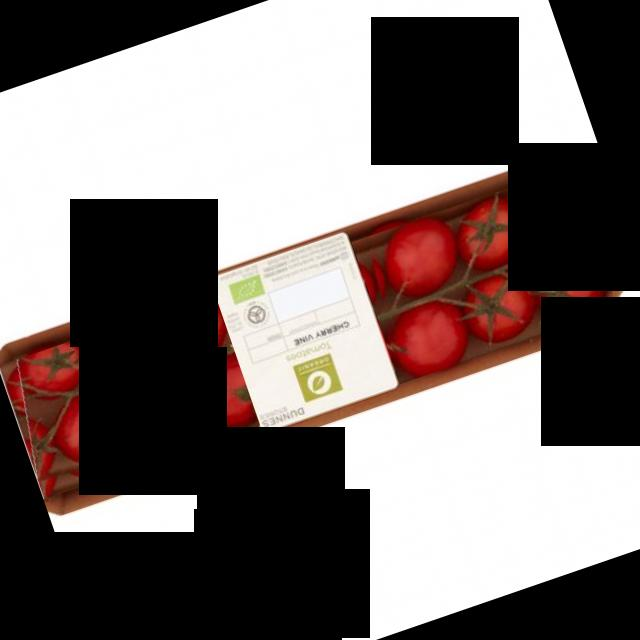tomatoes: (352, 167, 618, 383), (0, 291, 259, 499)
